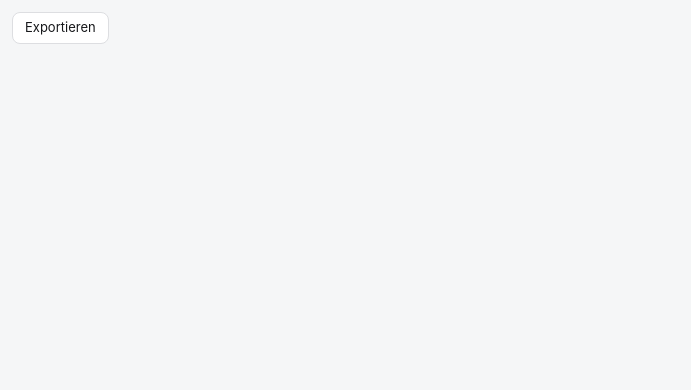
ReportExportMenu › JSON mit evidence_omitted: Datei kommt, aber eine sichtbare Warnung bleibt
Step 1. Press ArrowDown in the button with test id "report-export-trigger", box 12,12 -> 109,44
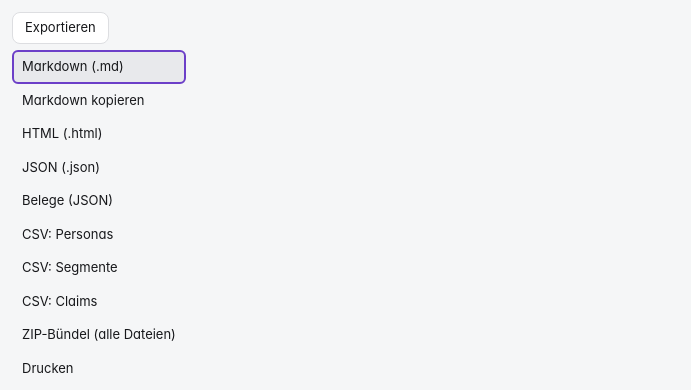
Step 2. Click the menu item "JSON (.json)" → {"x": 61, "y": 166}, box 22,158 -> 100,174
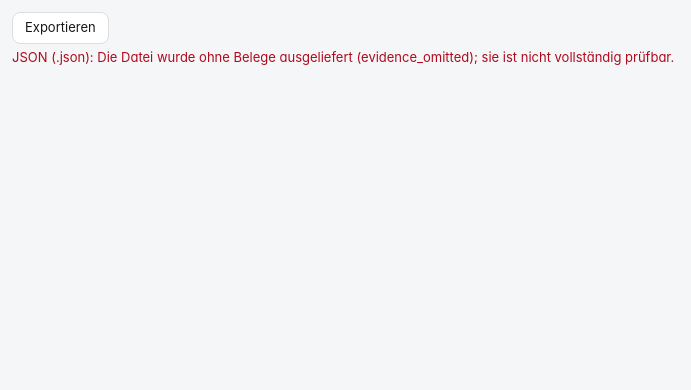
Expected: the message with test id "report-export-problem" shows "evidence_omitted", 12,49 -> 674,65
